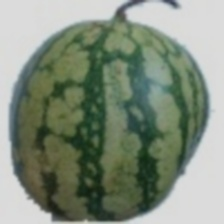watermelon: (20, 45, 182, 202)
